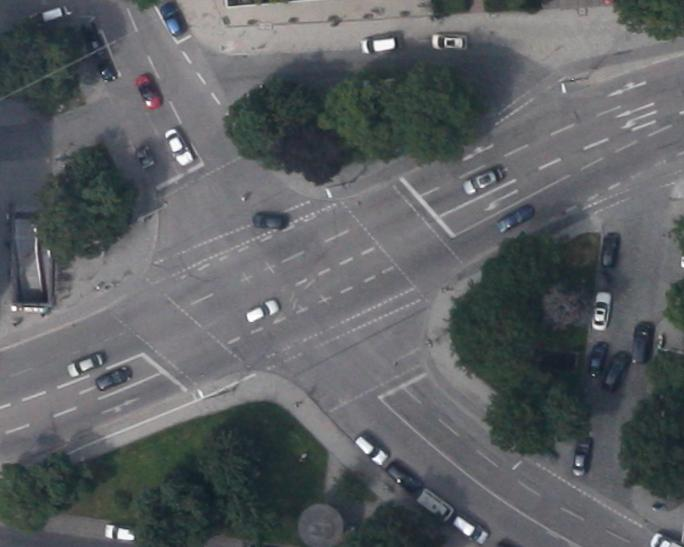car: (383, 458, 422, 496), (415, 487, 455, 524), (460, 164, 504, 196), (600, 350, 632, 394), (162, 125, 194, 168), (451, 512, 490, 546), (494, 203, 535, 235), (28, 1, 70, 30), (353, 434, 388, 466), (158, 1, 188, 38), (134, 73, 162, 111), (94, 365, 133, 392), (630, 322, 655, 364), (66, 352, 103, 378), (244, 298, 280, 324), (590, 290, 612, 332), (570, 435, 592, 477), (586, 342, 608, 378), (600, 231, 620, 268), (360, 35, 398, 54), (94, 54, 118, 84), (103, 522, 138, 542), (252, 210, 287, 229), (431, 32, 467, 50), (135, 144, 155, 170)
